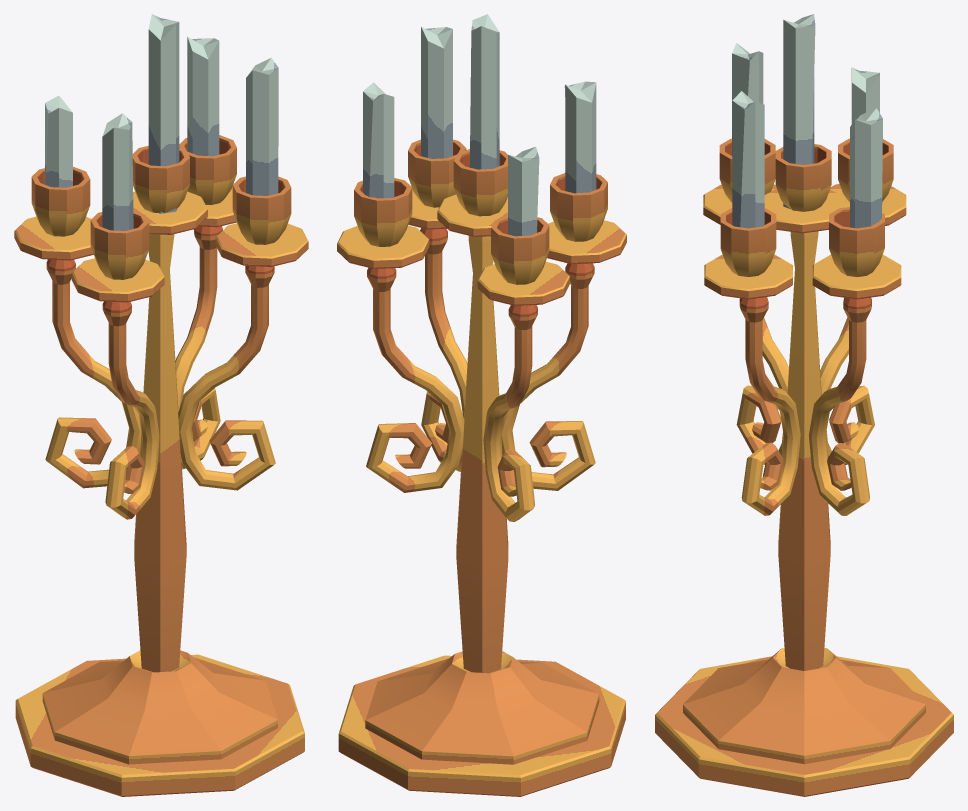
Rendered from chandelle_v06.fbx.
3 renders of one model, left to right at view 1: azimuth 30°, elevation 25°; view 2: azimuth 150°, elevation 25°; view 3: azimuth 270°, elevation 25°, orthographic.
Visible parts, largest first — view 1: chandelle_v02_combine5_polySurface25; view 2: chandelle_v02_combine5_polySurface25; view 3: chandelle_v02_combine5_polySurface25.
Boxes of the visible parts, x1,y1,x2,y2 form: chandelle_v02_combine5_polySurface25: (14,14,308,796); chandelle_v02_combine5_polySurface25: (337,14,626,796); chandelle_v02_combine5_polySurface25: (655,14,953,796).
Bounding box in the file's own units: 45.3 × 120 × 45.3.
1 material, 1 textured.
